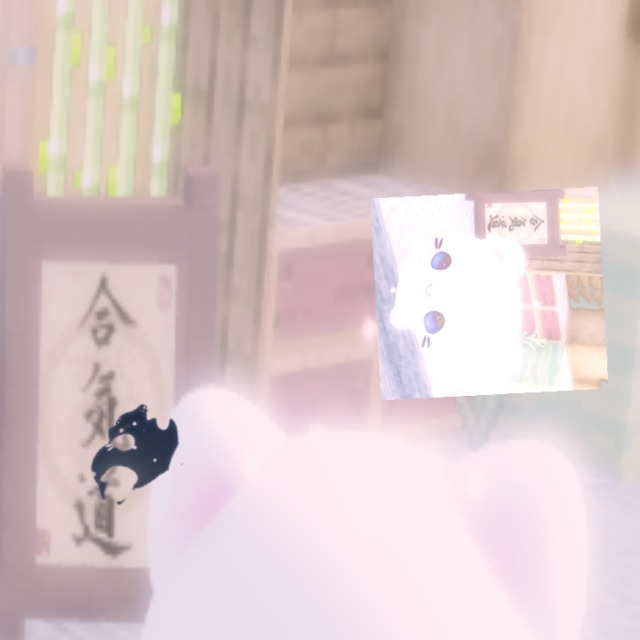urso_branco: (370, 186, 609, 401)
urso_preto: (52, 374, 217, 534)
